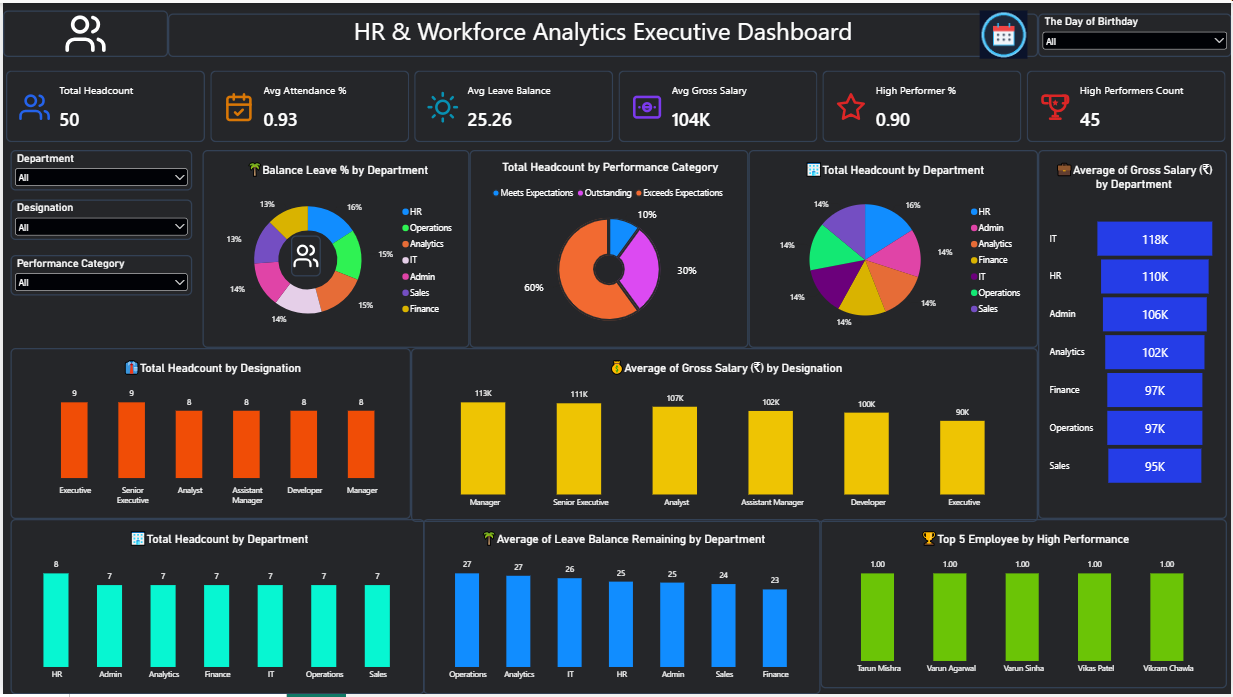

Layout of this report page (visuals, bound fields, positions):
{"tool":"powerbi","page":{"name":" Page 1","canvas":[1920,1080],"ordinal":0},"visuals":[{"type":"donutChart","title":"🌴Balance Leave % by Department","fields":{"Category":["Employee Master.Department"],"Y":["Sum(Employee Master.Leave Balance Remaining)"]},"box":[311.8,229.8,417.3,309.5],"z":0,"group":"g2"},{"type":"textbox","box":[257.9,16.4,1359.8,68],"z":1000},{"type":"cardVisual","fields":{"Data":["Employee Master.Total Headcount","Employee Master.Avg Attendance %","Employee Master.Avg Leave Balance","Employee Master.Avg Gross Salary","Employee Master.High Performer %","Employee Master.High Performers Count"]},"box":[4.7,105.5,1908.4,112.5],"z":2000},{"type":"columnChart","title":"🏢Total Headcount by Department","fields":{"Category":["Employee Master.Department"],"Y":["Employee Master.Total Headcount"]},"box":[11.7,806.5,647.1,274.3],"z":3000},{"type":"donutChart","fields":{"Category":["Employee Master.Performance Category"],"Y":["Employee Master.Total Headcount"]},"box":[729.1,229.8,436.1,309.5],"z":4000},{"type":"columnChart","title":"👔Total Headcount by Designation","fields":{"Category":["Employee Master.Designation"],"Y":["Employee Master.Total Headcount"]},"box":[11.7,539.2,626,267.3],"z":5000},{"type":"columnChart","title":"🌴Average of Leave Balance Remaining by Department","fields":{"Category":["Employee Master.Department"],"Y":["Avg(Employee Master.Leave Balance Remaining)"]},"box":[656.5,806.5,621.3,274.3],"z":6000},{"type":"slicer","fields":{"Values":["Employee Master.Department"]},"box":[11.7,229.8,283.7,63.3],"z":7000},{"type":"slicer","fields":{"Values":["Employee Master.Designation"]},"box":[11.7,307.1,283.7,63.3],"z":8000},{"type":"slicer","fields":{"Values":["Employee Master.Performance Category"]},"box":[11.7,393.9,283.7,63.3],"z":9000},{"type":"funnel","title":"💼Average of Gross Salary (₹) by Department","fields":{"Category":["Employee Master.Department"],"Y":["Avg(Employee Master.Gross Salary (₹))"]},"box":[1617.7,229.8,295.4,576.7],"z":10000},{"type":"columnChart","title":"🏆Top 5 Employee by High Performance ","fields":{"Y":["Employee Master.High Performer %"],"Category":["Employee Master.Employee Name"]},"box":[1277.7,806.5,635.4,264.9],"z":11000},{"type":"pieChart","title":"🏢Total Headcount by Department","fields":{"Category":["Employee Master.Department"],"Y":["Employee Master.Total Headcount"]},"box":[1165.2,229.8,452.5,309.5],"z":12000},{"type":"slicer","fields":{"Values":["Employee Master.Date of Birth"]},"box":[1617.7,16.4,302.4,68],"z":13000},{"type":"columnChart","title":"💰Average of Gross Salary (₹) by Designation","fields":{"Category":["Employee Master.Designation"],"Y":["Avg(Employee Master.Gross Salary (₹))"]},"box":[637.7,539.2,980,272],"z":14000},{"type":"image","box":[1509.8,11.7,107.8,75],"z":15000},{"type":"image","box":[0,11.7,257.9,72.7],"z":16000},{"type":"image","box":[450.5,364.4,46.9,64.2],"z":17000,"group":"g2"},{"type":"group","id":"g1","title":"Group 1","box":[311.8,229.8,417.3,309.5],"z":17001},{"type":"group","id":"g2","title":"Group 2","box":[311.8,229.8,417.3,309.5],"z":17002,"group":"g1"}]}

Visuals, with their boxes in screenshot pixels (x1, y1, x2, y2), scaled from the page's 1920x1080 canvas onto the 1233x697 screenshot:
"🌴Balance Leave % by Department" donutChart: 200:148:468:348
textbox: 166:11:1039:54
cardVisual - Employee Master.Total Headcount x Employee Master.Avg Attendance %: 3:68:1229:141
"🏢Total Headcount by Department" columnChart: 8:520:423:696
donutChart - Employee Master.Performance Category x Employee Master.Total Headcount: 468:148:748:348
"👔Total Headcount by Designation" columnChart: 8:348:410:520
"🌴Average of Leave Balance Remaining by Department" columnChart: 422:520:821:696
slicer - Employee Master.Department: 8:148:190:189
slicer - Employee Master.Designation: 8:198:190:239
slicer - Employee Master.Performance Category: 8:254:190:295
"💼Average of Gross Salary (₹) by Department" funnel: 1039:148:1229:520
"🏆Top 5 Employee by High Performance " columnChart: 821:520:1229:691
"🏢Total Headcount by Department" pieChart: 748:148:1039:348
slicer - Employee Master.Date of Birth: 1039:11:1232:54
"💰Average of Gross Salary (₹) by Designation" columnChart: 410:348:1039:524
image: 970:8:1039:56
image: 0:8:166:54
image: 289:235:319:277
"Group 1" group: 200:148:468:348
"Group 2" group: 200:148:468:348
